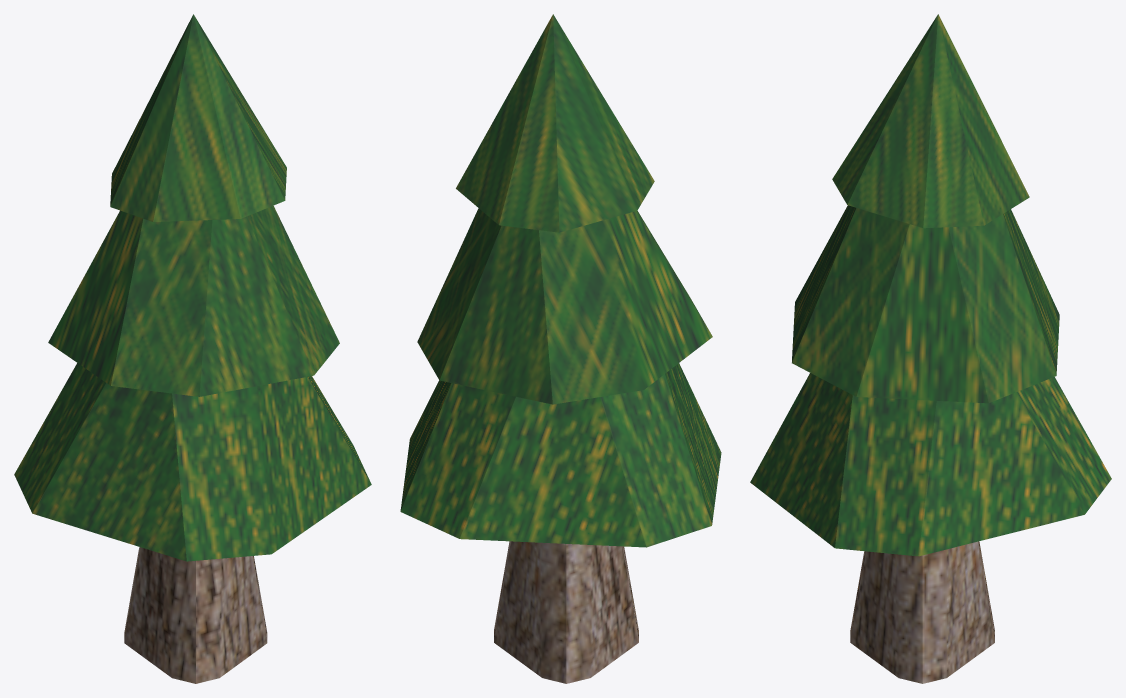
The model's file is evergreen_Evergreen.FBX.
3 renders of one model, left to right at view 1: azimuth 30°, elevation 25°; view 2: azimuth 150°, elevation 25°; view 3: azimuth 270°, elevation 25°, orthographic.
Parts seen in each view (by area): view 1: evergreen_Evergreen; view 2: evergreen_Evergreen; view 3: evergreen_Evergreen.
Part boxes in pixels (x1,y1,x2,y2): evergreen_Evergreen: [14, 14, 371, 683]; evergreen_Evergreen: [400, 14, 721, 683]; evergreen_Evergreen: [750, 14, 1111, 683].
Size of what is drawn, in the model's own units: 3.25 by 3.25 by 6.31.
